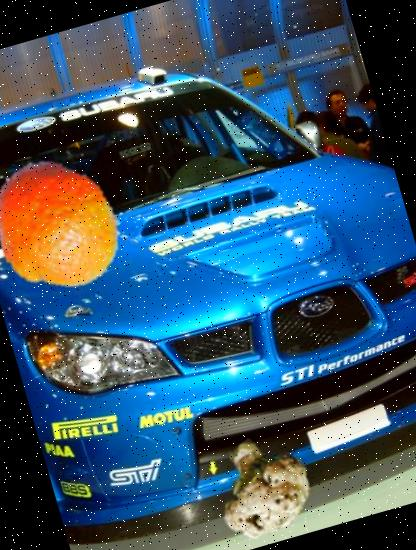Cauliflower: (196, 425, 322, 550)
Mandarine: (0, 140, 141, 312)
